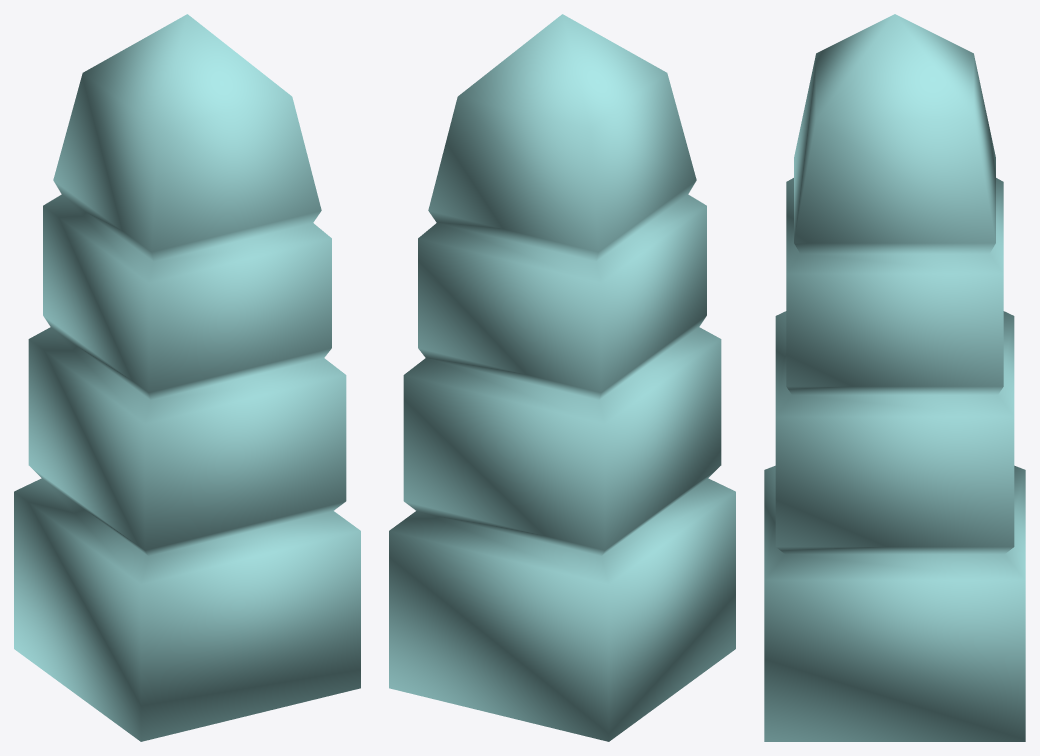
3 renders of one model, left to right at view 1: azimuth 30°, elevation 25°; view 2: azimuth 150°, elevation 25°; view 3: azimuth 270°, elevation 25°, orthographic. The views are drawn at different scales.
Visible parts, largest first — view 1: g Box001; view 2: g Box001; view 3: g Box001.
Boxes of the visible parts, x1,y1,x2,y2 form: g Box001: [14, 14, 360, 741]; g Box001: [389, 14, 735, 741]; g Box001: [764, 14, 1025, 741].
Size of the model in its own units: 0.7033 by 2 by 0.7033.
